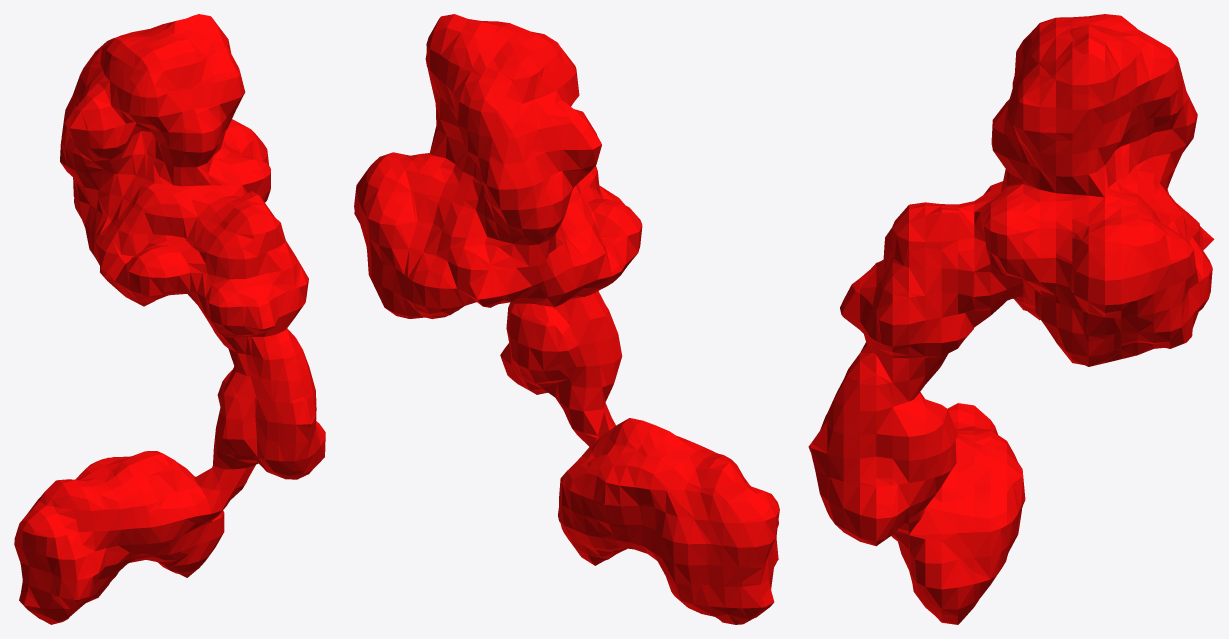
Rendered from spoT_coarse.dae.
The picture shows the model from 3 angles, left to right: view 1: azimuth 30°, elevation 25°; view 2: azimuth 150°, elevation 25°; view 3: azimuth 270°, elevation 25°; orthographic projection. The views are drawn at different scales.
Parts seen in each view (by area): view 1: spoT; view 2: spoT; view 3: spoT.
Boxes of the visible parts, x1,y1,x2,y2 form: spoT: (14,14,325,624); spoT: (354,14,779,624); spoT: (808,14,1214,624).
Bounding box in the file's own units: 92.67 × 151 × 85.29.
